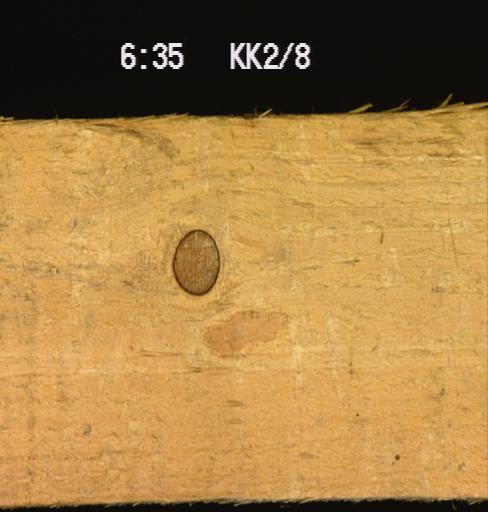dry_knot: (170, 228, 220, 296)
